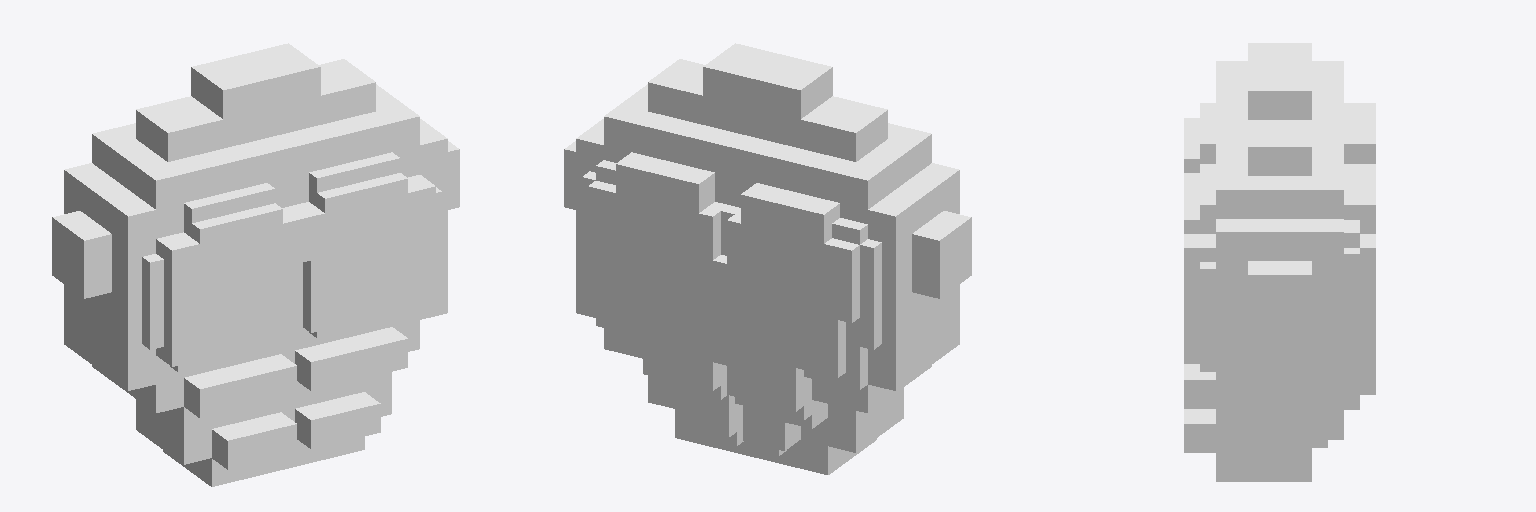
Rendered from PlayerDark-1-Player_Torso.obj.
3 renders of one model, left to right at view 1: azimuth 30°, elevation 25°; view 2: azimuth 150°, elevation 25°; view 3: azimuth 270°, elevation 25°, orthographic.
Parts seen in each view (by area): view 1: Player_Torso; view 2: Player_Torso; view 3: Player_Torso.
Part boxes in pixels (x1,y1,x2,y2): Player_Torso: (52, 43, 459, 486); Player_Torso: (564, 43, 971, 474); Player_Torso: (1184, 43, 1375, 481).
Bounding box in the file's own units: 2.7 × 2.6 × 1.2.